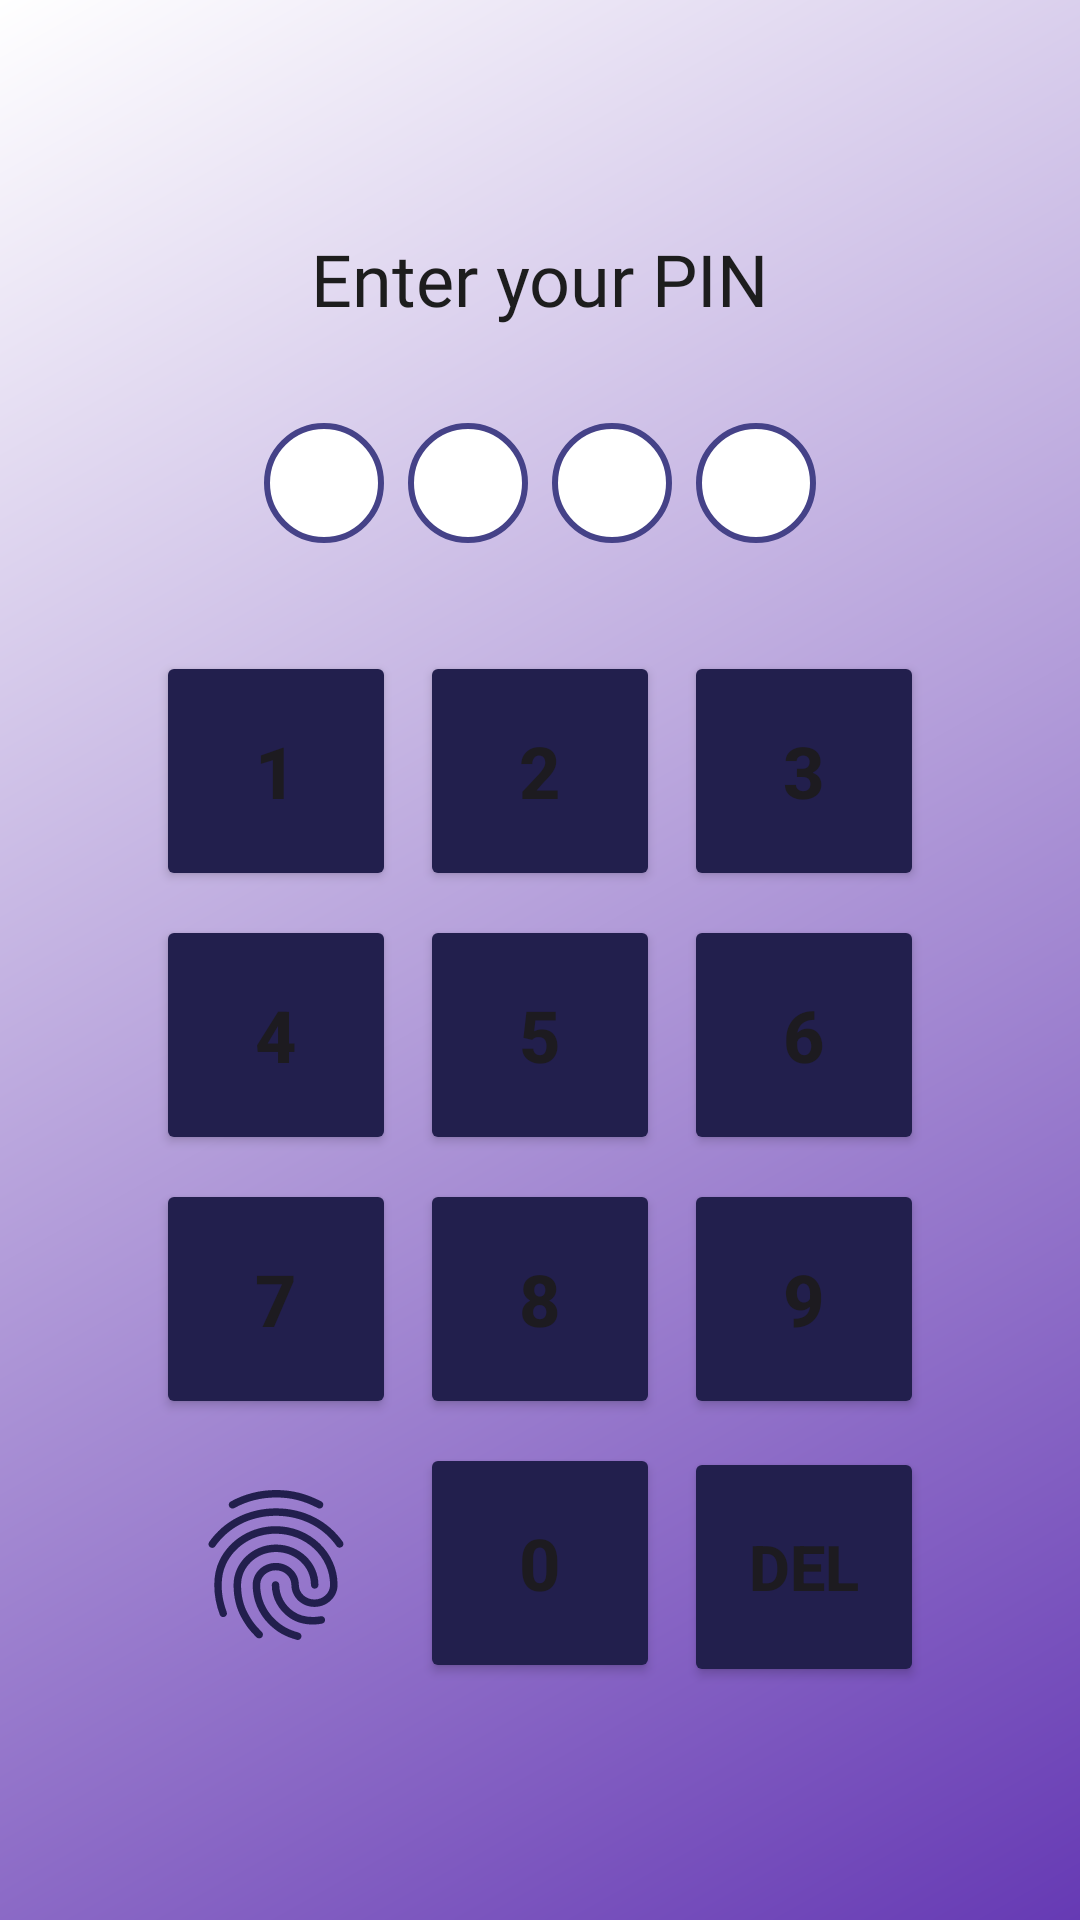

Screen size 1080×1920. Icon name, then its center in pixels as point (x, y):
fingerprint: point (276, 1565)
